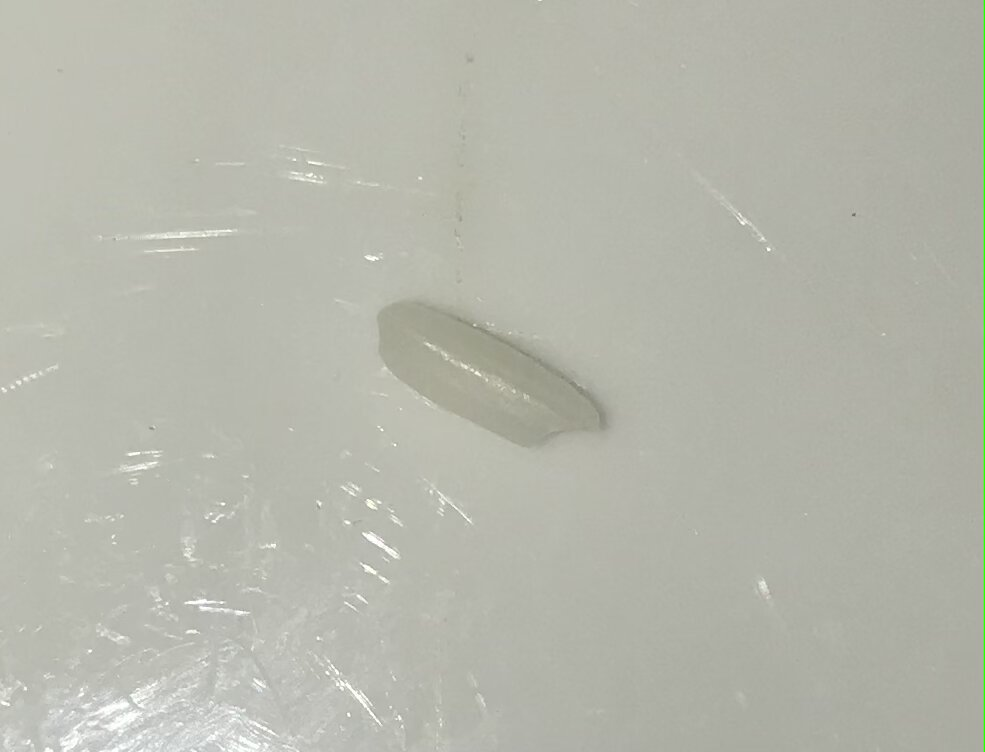Gao Lai Sua: (363, 289, 609, 457)
